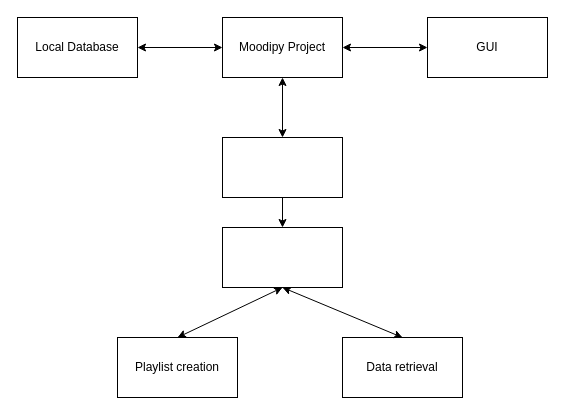
Image size: 565x415. Some labels were removed from this diagram. Here are the shapes that lost their labels. From the top down, the centre of each, then its label:
point (282, 167): Spotify API
point (282, 257): Spotify Database
